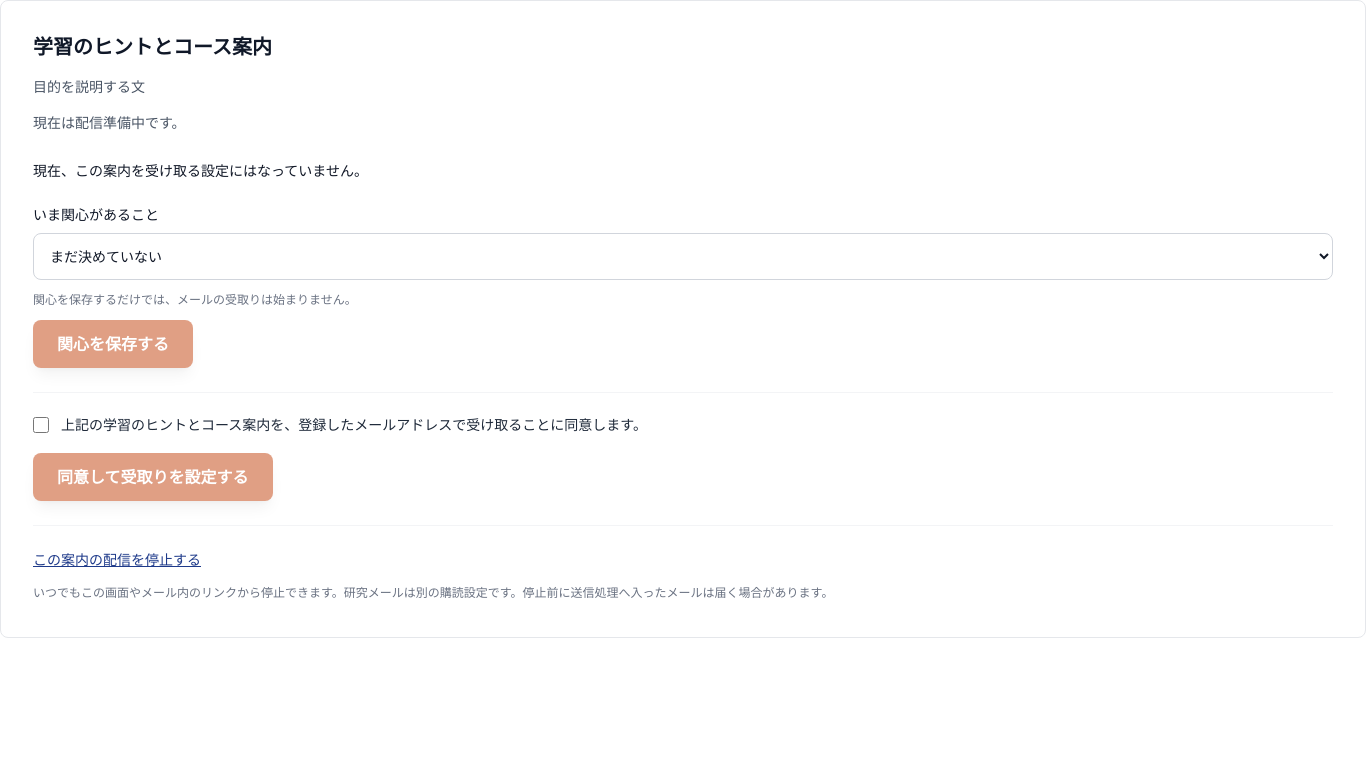
opening settings never opts in; consent requires an unchecked-by-default checkbox and carries the notice version
Expected: the button "同意して受取りを設定する" is disabled, [33,453,272,501]
Click the checkbox at (41, 425), box [33,417,49,433]
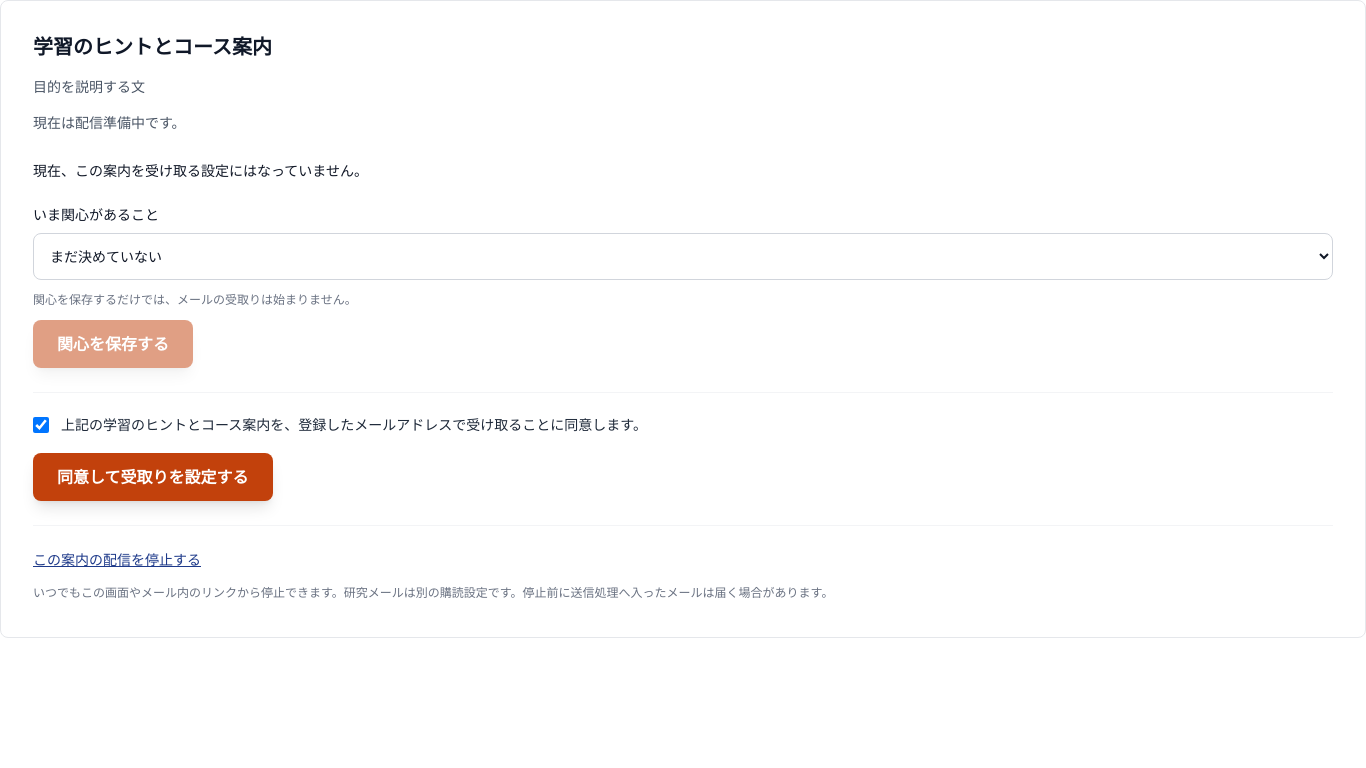
Click the button "同意して受取りを設定する" at (153, 477), box [33,453,272,501]
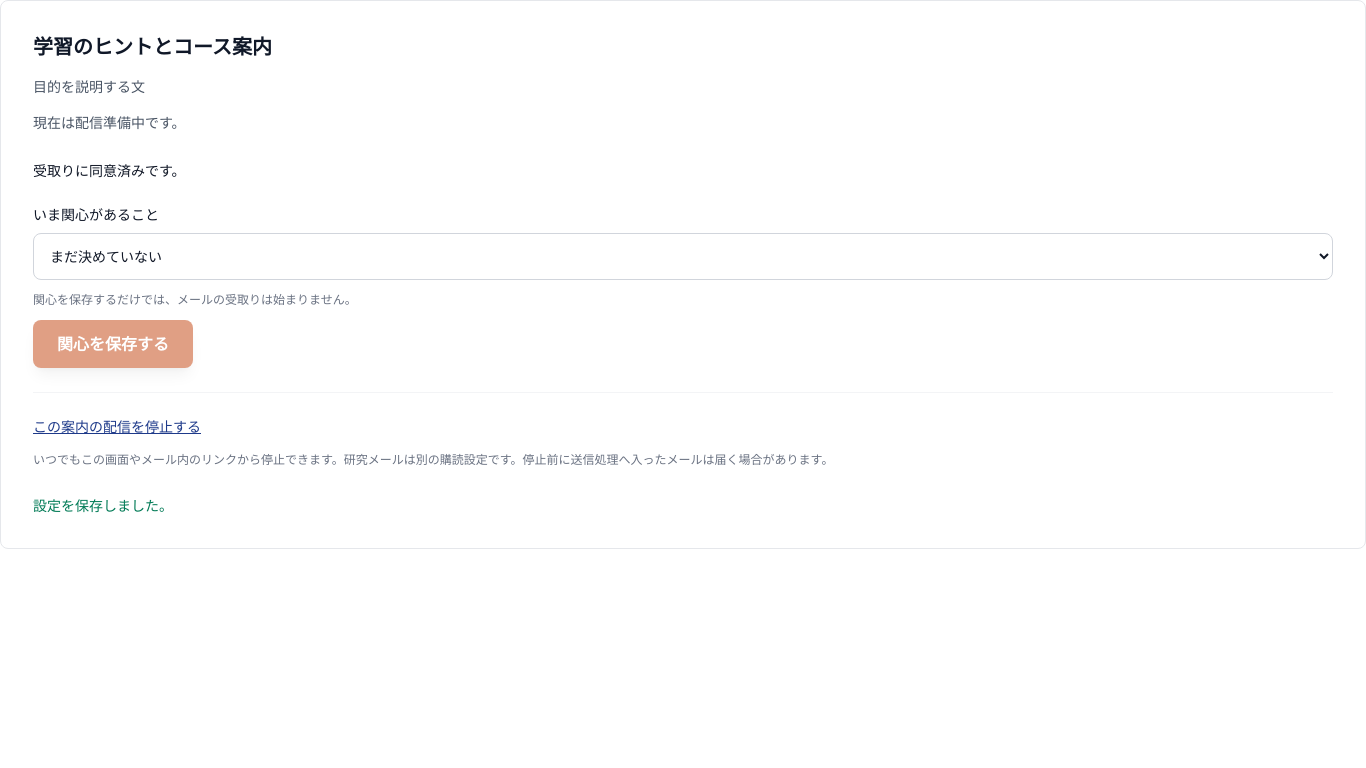
Now the text "受取りに同意済みです。" is shown, box [33,161,186,180]
